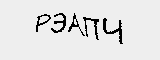А: (69, 11, 82, 37)
П: (83, 16, 102, 41)
Р: (34, 10, 49, 32)
Ч: (102, 15, 123, 46)
Э: (52, 9, 68, 36)
